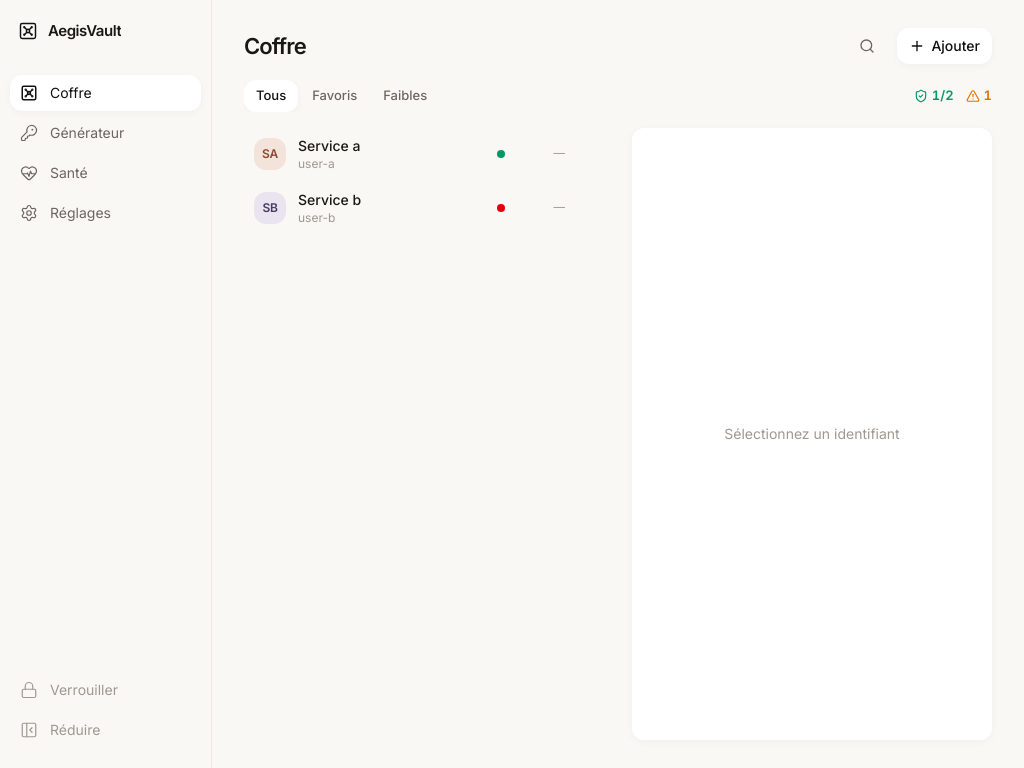
Test: MainLayout vault list › narrows the list to weak passwords
The width and height of the screenshot is (1024, 768).
Click the button "Faibles". click: coordinates (405, 96)
box: [371,80,439,112]
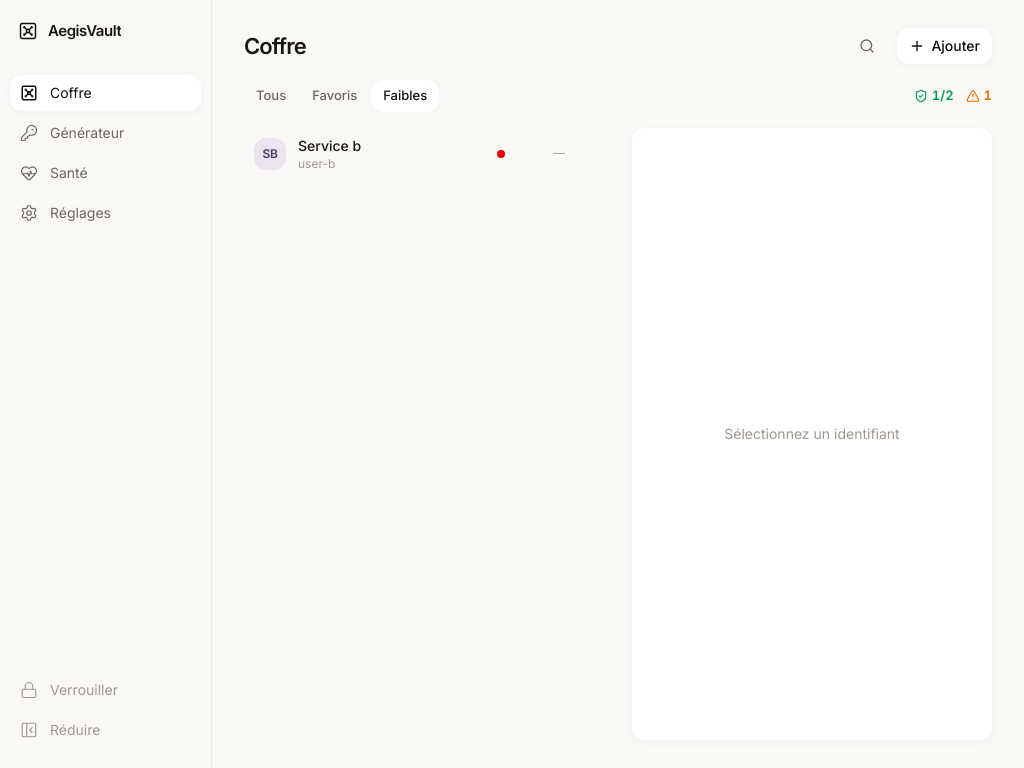
Expected: the text "Service b" is shown, [298,136,361,154]
Expected: the text "Service a" is gone
